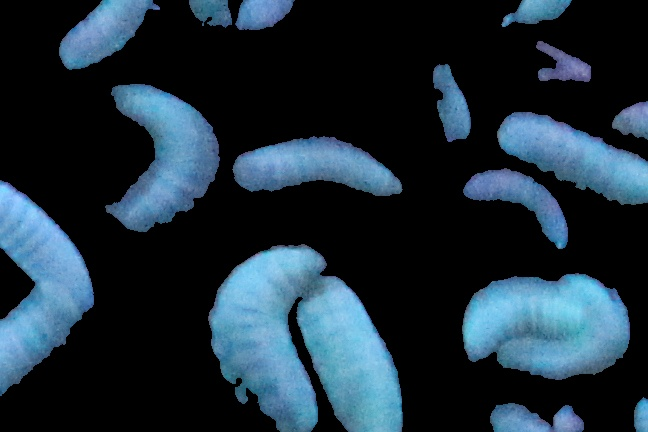larvae: (87, 71, 220, 240), (203, 241, 316, 432), (292, 267, 407, 432), (214, 123, 407, 213), (495, 104, 648, 207), (466, 270, 619, 366), (1, 164, 97, 315), (500, 297, 628, 383), (459, 164, 584, 249), (1, 280, 83, 403), (56, 1, 158, 74)
